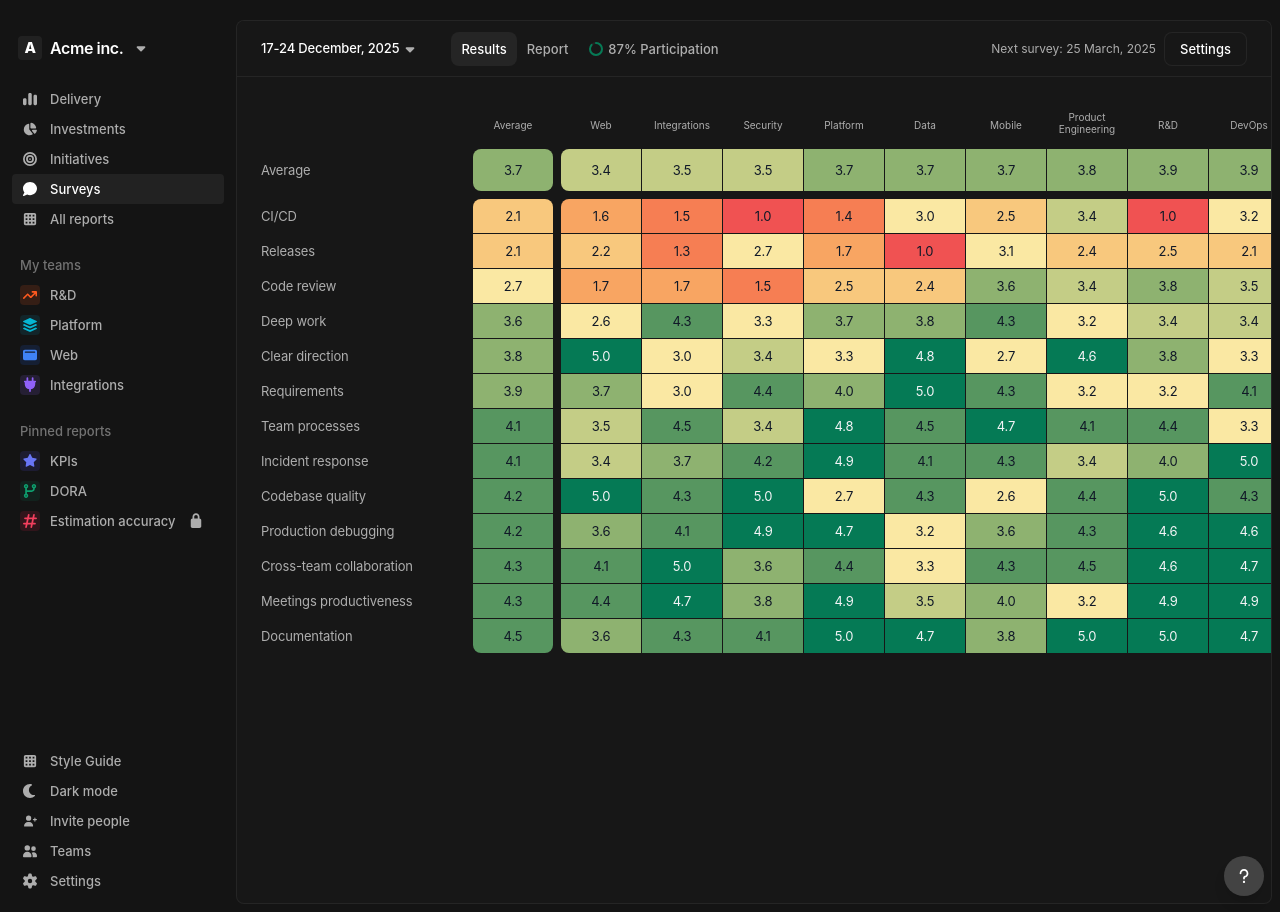
surveys results page › opens the surveys settings page from the header
Click the button "Settings" next to "25 March, 2025": (1206, 48) [1164, 32, 1247, 66]
(page scrolled)
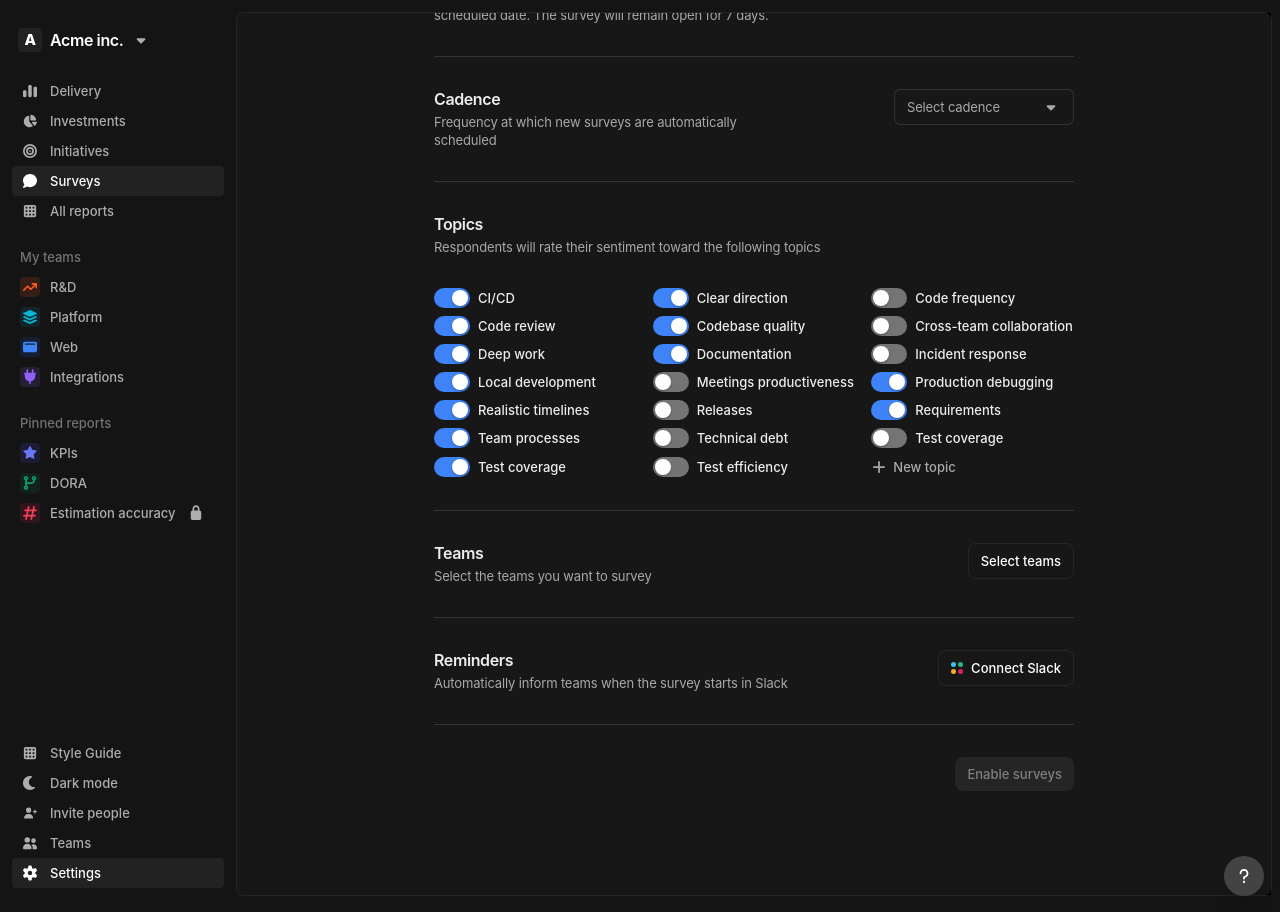
Expected: the heading "Cadence" is shown, [434, 89, 500, 109]
Expected: the text "Respondents will rate their sentiment" is shown, [434, 239, 820, 255]
Expected: the heading "Teams" is shown, [434, 543, 483, 563]
